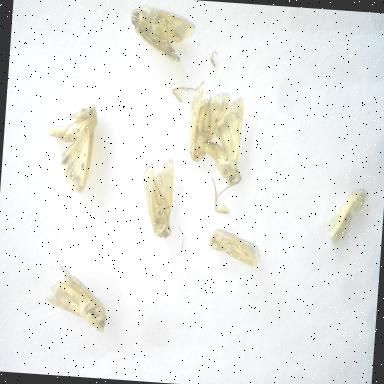abw: (190, 86, 250, 201), (40, 96, 101, 198), (38, 260, 114, 338), (124, 3, 199, 66), (134, 153, 182, 244), (318, 182, 371, 254), (202, 222, 266, 272)
